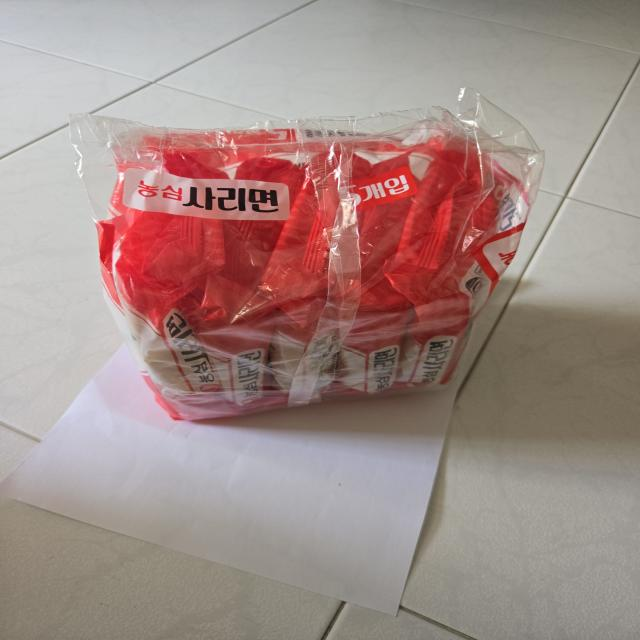instant-noodle: (60, 98, 547, 440)
